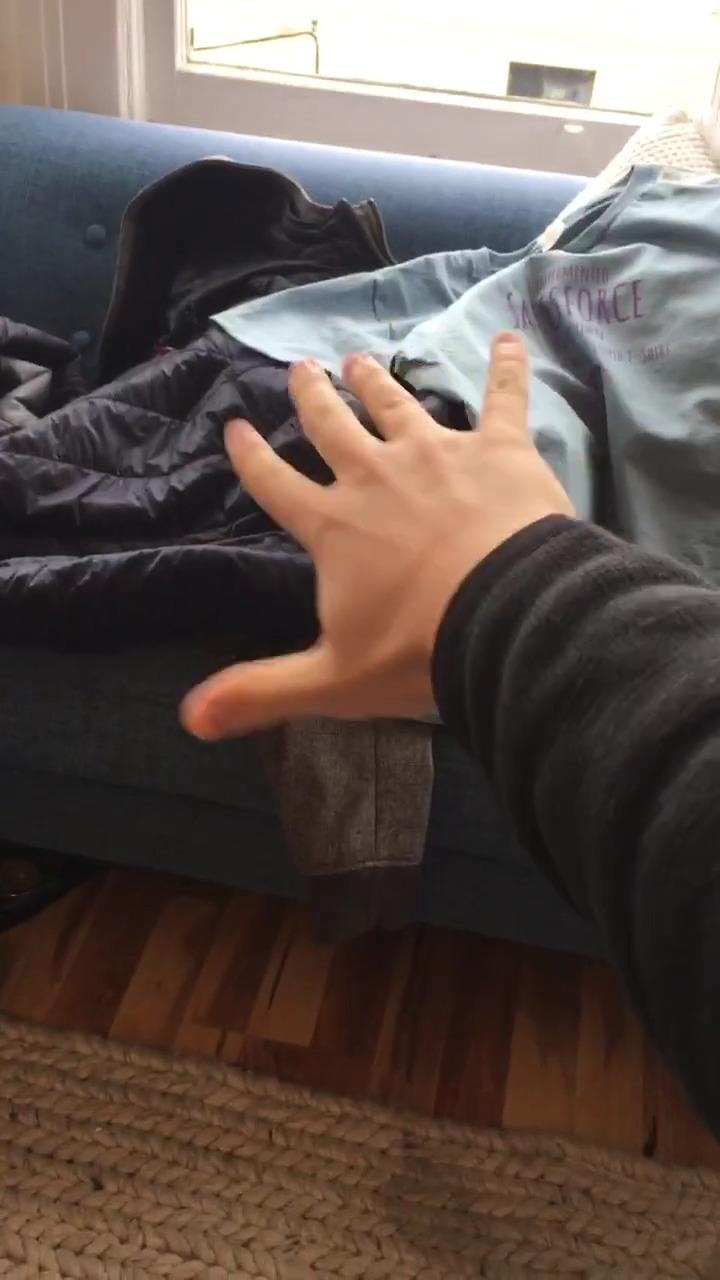Paper: (188, 326, 568, 744)
